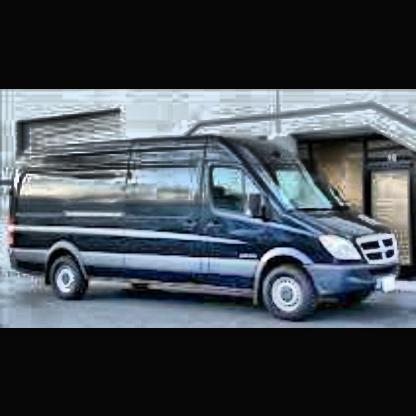Dodge Sprinter Cargo Van 2009: (9, 130, 401, 326)
